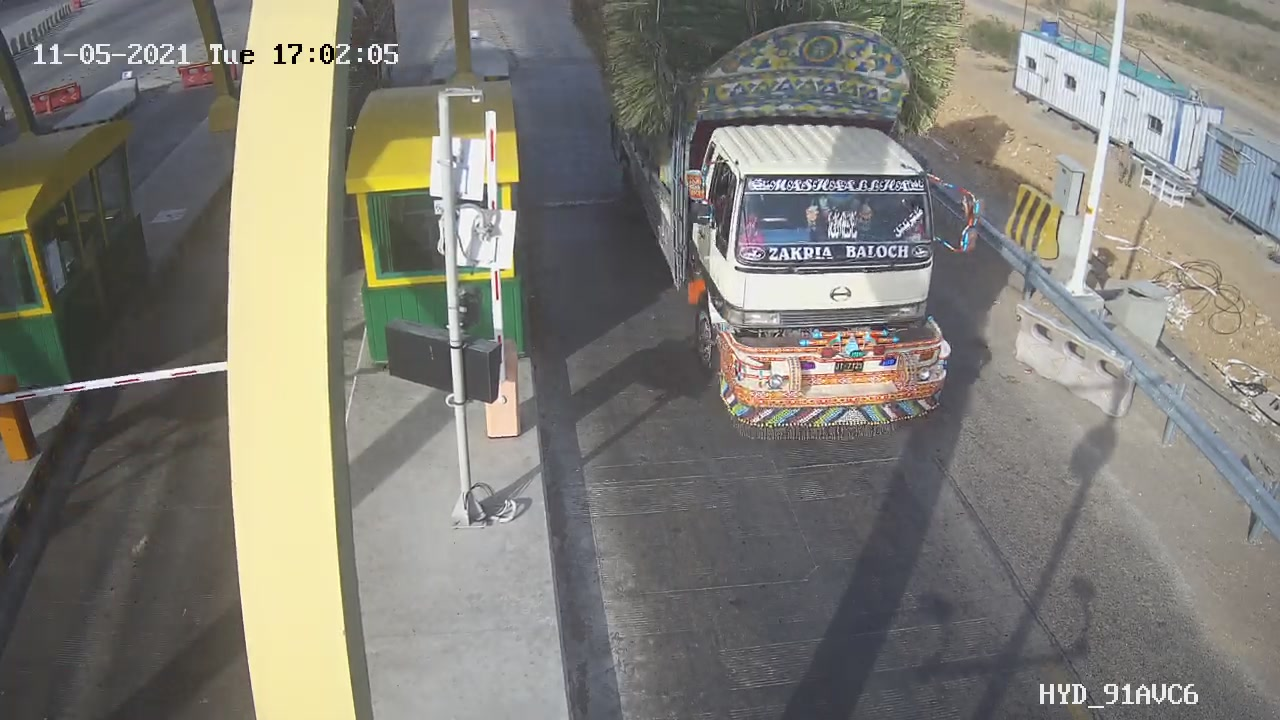F5: (583, 4, 1005, 466)
